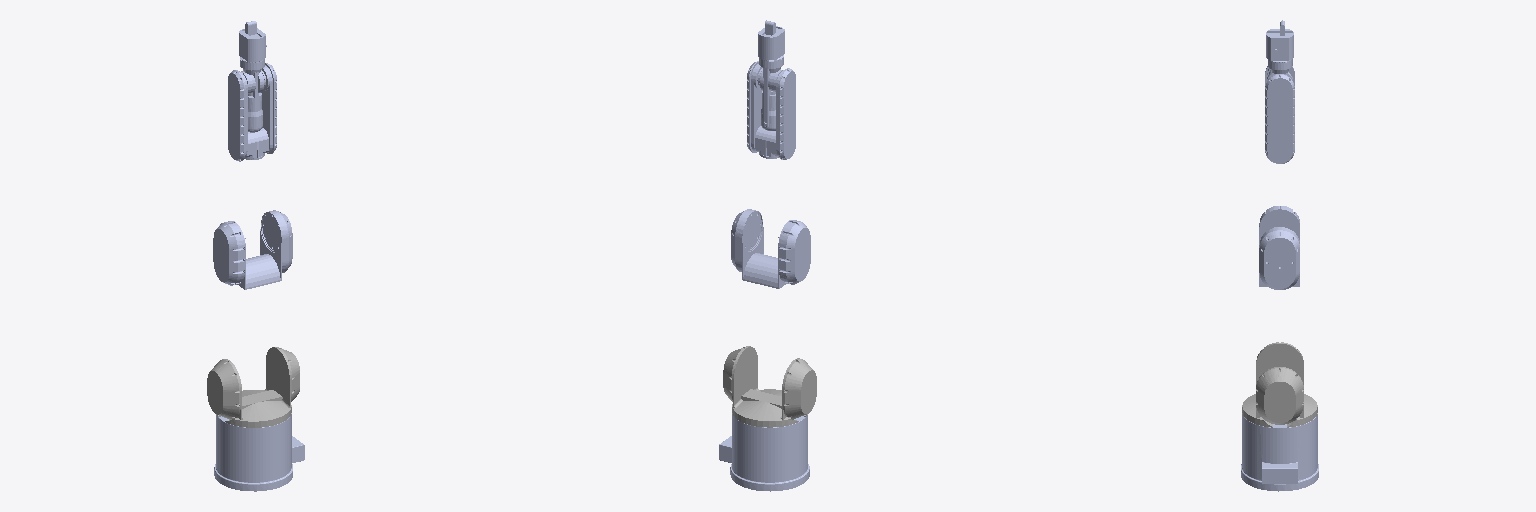
robot.urdf — pa10:
<robot
  name="pa10">
    <link
    name="link1">
    <inertial>
      <origin
        xyz="0 0 0"
        rpy="0 0 0" />
      <mass
        value="7.94934697220915" />
      <inertia
        ixx="0.0510642767434423"
        ixy="-0.000891049100773253"
        ixz="3.65730202857334E-12"
        iyy="0.0504677521912288"
        iyz="1.39738812812236E-10"
        izz="0.0536200422710813" />
    </inertial>
    <visual>
      <origin
        xyz="0 0 0"
        rpy="0 0 0" />
      <geometry>
        <mesh
          filename="package://pa10_description/meshes/link1.STL" />
      </geometry>
      <material
        name="cyan">
        <color
          rgba="0.796078431372549 0.823529411764706 0.937254901960784 1" />
      </material>
    </visual>
    <collision>
      <origin
        xyz="0 0 0"
        rpy="0 0 0" />
      <geometry>
        <mesh
          filename="package://pa10_description/meshes/link1.STL" />
      </geometry>
    </collision>
  </link>
  
  <link
    name="link2">
    <inertial>
      <origin
        xyz="-0.0617285640357165 -4.46977211302629E-07 -2.02885402304353E-08"
        rpy="0 0 0" />
      <mass
        value="2.71192568839201" />
      <inertia
        ixx="0.0243201044735161"
        ixy="2.57044757772359E-07"
        ixz="-3.2309369661469E-06"
        iyy="0.0264027108199814"
        iyz="1.37537607062047E-07"
        izz="0.0115437749210812" />
    </inertial>
    <visual>
      <origin
        xyz="0 0 0"
        rpy="0 0 0" />
      <geometry>
        <mesh
          filename="package://pa10_description/meshes/link2.STL" />
      </geometry>
      <material
        name="">
        <color
          rgba="0.752941176470588 0.752941176470588 0.752941176470588 1" />
      </material>
    </visual>
    <collision>
      <origin
        xyz="0 0 0"
        rpy="0 0 0" />
      <geometry>
        <mesh
          filename="package://pa10_description/meshes/link2.STL" />
      </geometry>
    </collision>
  </link>
  

  
  <joint
    name="joint1"
    type="revolute">
    <limit upper="3.08823" lower="-3.08823" velocity="10" effort="10000"/>
    <origin
      xyz="-0.0018811 0 0.10209"
      rpy="0 1.5708 0" />
    <parent
      link="link1" />
    <child
      link="link2" />
    <axis
      xyz="1 0 0" />
  </joint>
  
  
  <link
    name="link3">
    <inertial>
      <origin
        xyz="-0.094181274379144 -4.63765533788296E-06 0.00129755326031771"
        rpy="0 0 0" />
      <mass
        value="4.68012900111117" />
      <inertia
        ixx="0.011384781756112"
        ixy="-5.17494991257085E-07"
        ixz="-1.63266437372498E-06"
        iyy="0.0663254092196658"
        iyz="5.70854111984348E-08"
        izz="0.0640549775205778" />
	</inertial>
    <visual>
      <origin
        xyz="0 0 0"
        rpy="0 0 0" />
      <geometry>
        <mesh
          filename="package://pa10_description/meshes/link3.STL" />
      </geometry>
      <material
        name="cyan">
        <color
          rgba="0.796078431372549 0.823529411764706 0.937254901960784 1" />
      </material>
    </visual>
    <collision>
      <origin
        xyz="0 0 0"
        rpy="0 0 0" />
      <geometry>
        <mesh
          filename="package://pa10_description/meshes/link3.STL" />
      </geometry>
    </collision>
  </link>
  
  
  <joint
    name="joint2"
    type="revolute">
    <limit upper="1.58725" lower="-1.58725" velocity="10" effort="10000"/>
    <origin
      xyz="-0.1135 0 0"
      rpy="3.1416 3.0531E-16 0" />
    <parent
      link="link2" />
    <child
      link="link3" />
    <axis
      xyz="0 0 -1" />
  </joint>
  
  
  <link
    name="link4">
    <inertial>
      <origin
        xyz="-0.078996 -0.14816 -0.025657"
        rpy="0 0 0" />
     <mass
        value="2.3539959451965" />
       <inertia
        ixx="0.015058"
        ixy="0.0015469"
        ixz="-0.00070667"
        iyy="0.018286"
        iyz="-1.8788E-05"
        izz="0.0088182" />
    </inertial>
    <visual>
      <origin
        xyz="0 0 0"
        rpy="0 0 0" />
      <geometry>
        <mesh
          filename="package://pa10_description/meshes/link4.STL" />
      </geometry>
      <material
        name="">
        <color
          rgba="0.796078431372549 0.823529411764706 0.937254901960784 1" />
      </material>
    </visual>
    <collision>
      <origin
        xyz="0 0 0"
        rpy="0 0 0" />
      <geometry>
        <mesh
          filename="package://pa10_description/meshes/link4.STL" />
      </geometry>
    </collision>
  </link>

  
  <joint
    name="joint3"
    type="revolute">
    <limit upper="3.03587" lower="-3.03587" velocity="10" effort="10000"/>
    <origin
      xyz="-0.2825 0 0.0029999"
      rpy="0 1.2062E-07 6.5638E-07" />
    <parent
      link="link3" />
    <child
      link="link4" />
    <axis
      xyz="1 0 0" />
  </joint>
  
  
  <link
    name="link5">
    <inertial>
      <origin
        xyz="-0.0847859918312063 -1.41827960625784E-05 -0.0002042047160195"
        rpy="0 0 0" />
      <mass
        value="2.05851442359338" />
      <inertia
        ixx="0.00292511622390553"
        ixy="1.41784162912146E-06"
        ixz="0.00060867951854864"
        iyy="0.020909916742985"
        iyz="1.12871901963483E-06"
        izz="0.0201272225685895" />
    </inertial>
    <visual>
      <origin
        xyz="0 0 0"
        rpy="0 0 0" />
      <geometry>
        <mesh
          filename="package://pa10_description/meshes/link5.STL" />
      </geometry>
      <material
        name="">
        <color
          rgba="0.796078431372549 0.823529411764706 0.937254901960784 1" />
      </material>
    </visual>
    <collision>
      <origin
        xyz="0 0 0"
        rpy="0 0 0" />
      <geometry>
        <mesh
          filename="package://pa10_description/meshes/link5.STL" />
      </geometry>
    </collision>
  </link>
  
  
  <joint
    name="joint4"
    type="revolute">
    <limit upper="2.3901" lower="-2.3901" velocity="10" effort="10000"/>
    <origin
      xyz="-0.16801 -1.7923E-05 0"
      rpy="-3.1416 -1.1102E-16 0" />
    <parent
      link="link4" />
    <child
      link="link5" />
    <axis
      xyz="0 0 1" />
  </joint>
  
  
  <link
    name="link6">
    <inertial>
      <origin
        xyz="-0.00805272105966082 0.000110235624640742 0.00069149937940316"
        rpy="0 0 0" />
      <mass
        value="1.37119764561499" />
      <inertia
        ixx="0.00333020297641962"
        ixy="-7.8633755251471E-07"
        ixz="-0.000117294966007319"
        iyy="0.0117528447479912"
        iyz="5.34812034426197E-09"
        izz="0.00961712575206474" />
    </inertial>
    <visual>
      <origin
        xyz="0 0 0"
        rpy="0 0 0" />
      <geometry>
        <mesh
          filename="package://pa10_description/meshes/link6.STL" />
      </geometry>
      <material
        name="">
        <color
          rgba="0.796078431372549 0.823529411764706 0.937254901960784 1" />
      </material>
    </visual>
    <collision>
      <origin
        xyz="0 0 0"
        rpy="0 0 0" />
      <geometry>
        <mesh
          filename="package://pa10_description/meshes/link6.STL" />
      </geometry>
    </collision>
  </link>

   
  <joint
    name="joint5"
    type="revolute">
    <limit upper="4.44059" lower="-4.44059" velocity="10" effort="10000"/>
    <origin
      xyz="-0.36824 0 -0.0020003"
      rpy="0 2.1649E-15 9.992E-16" />
    <parent
      link="link5" />
    <child
      link="link6" />
    <axis
      xyz="1 0 0" />
  </joint>
  
  
  <link
    name="link7">
    <inertial>
      <origin
        xyz="0.0312759039478299 0.00123419126834035 0.00086359769683747"
        rpy="0 0 0" />
      <mass
        value="0.749475964810386" />
      <inertia
        ixx="0.000413239571105982"
        ixy="-2.89936057339336E-05"
        ixz="4.19297763029297E-06"
        iyy="0.00379347775132525"
        iyz="-5.2418695993306E-07"
        izz="0.00378820414120642" />
    </inertial>
    <visual>
      <origin
        xyz="0 0 0"
        rpy="0 0 0" />
      <geometry>
        <mesh
          filename="package://pa10_description/meshes/link7.STL" />
      </geometry>
      <material
        name="">
        <color
          rgba="0.796078431372549 0.823529411764706 0.937254901960784 1" />
      </material>
    </visual>
    <collision>
      <origin
        xyz="0 0 0"
        rpy="0 0 0" />
      <geometry>
        <mesh
          filename="package://pa10_description/meshes/link7.STL" />
      </geometry>
    </collision>
  </link>
  
  
  <joint
    name="joint6"
    type="revolute">
    <limit upper="2.87979" lower="-2.87979" velocity="10" effort="10000"/>
    <origin
      xyz="-0.13176 0.00011584 0"
      rpy="-1.5708 -2.387E-15 0" />
    <parent
      link="link6" />
    <child
      link="link7" />
    <axis
      xyz="0 1 0" />
  </joint>

  

  
  <link name="link8"/>
  
    <joint
    name="joint7"
    type="continuous">
    <origin
      xyz="-0.0789 0 0"
      rpy="0 0 3.14159265358979" />
    <parent
      link="link7" />
    <child
      link="link8" />
    <axis
      xyz="1 0 0" />
  </joint>
  
  <joint
    name="joint8"
    type="fixed">
    <origin
      xyz="0 0 0"
      rpy="0 0 0" />
    <parent
      link="link8" />
    <child
      link="gripper" />
    <axis
      xyz="0 0 0" />
  </joint>
  
    <transmission name="tran1">
    <type>transmission_interface/SimpleTransmission</type>
    <joint name="joint1">
      <hardwareInterface>EffortJointInterface</hardwareInterface>
    </joint>
    <actuator name="motor1">
      <hardwareInterface>EffortJointInterface</hardwareInterface>
      <mechanicalReduction>1</mechanicalReduction>
    </actuator>
  </transmission>
  
    <transmission name="tran2">
    <type>transmission_interface/SimpleTransmission</type>
    <joint name="joint2">
      <hardwareInterface>EffortJointInterface</hardwareInterface>
    </joint>
    <actuator name="motor2">
      <hardwareInterface>EffortJointInterface</hardwareInterface>
      <mechanicalReduction>1</mechanicalReduction>
    </actuator>
  </transmission>
  
    <transmission name="tran3">
    <type>transmission_interface/SimpleTransmission</type>
    <joint name="joint3">
      <hardwareInterface>EffortJointInterface</hardwareInterface>
    </joint>
    <actuator name="motor3">
      <hardwareInterface>EffortJointInterface</hardwareInterface>
      <mechanicalReduction>1</mechanicalReduction>
    </actuator>
  </transmission>
  
    <transmission name="tran4">
    <type>transmission_interface/SimpleTransmission</type>
    <joint name="joint4">
      <hardwareInterface>EffortJointInterface</hardwareInterface>
    </joint>
    <actuator name="motor4">
      <hardwareInterface>EffortJointInterface</hardwareInterface>
      <mechanicalReduction>1</mechanicalReduction>
    </actuator>
  </transmission>
  
  <transmission name="tran5">
    <type>transmission_interface/SimpleTransmission</type>
    <joint name="joint5">
      <hardwareInterface>EffortJointInterface</hardwareInterface>
    </joint>
    <actuator name="motor5">
      <hardwareInterface>EffortJointInterface</hardwareInterface>
      <mechanicalReduction>1</mechanicalReduction>
    </actuator>
  </transmission>
  
  <transmission name="tran6">
    <type>transmission_interface/SimpleTransmission</type>
    <joint name="joint6">
      <hardwareInterface>EffortJointInterface</hardwareInterface>
    </joint>
    <actuator name="motor6">
      <hardwareInterface>EffortJointInterface</hardwareInterface>
      <mechanicalReduction>1</mechanicalReduction>
    </actuator>
  </transmission>
  
    <transmission name="tran7">
    <type>transmission_interface/SimpleTransmission</type>
    <joint name="joint7">
      <hardwareInterface>EffortJointInterface</hardwareInterface>
    </joint>
    <actuator name="motor7">
      <hardwareInterface>EffortJointInterface</hardwareInterface>
      <mechanicalReduction>1</mechanicalReduction>
    </actuator>
  </transmission>
  

  
  
  
  


    
    <!--To fixe the bqse of the robot-->
  <joint name="fixed" type="fixed">
    <parent link="world"/>
    <child link="link1"/>
  </joint>
  
  
  
    <link 
    name="gripper"> 
    <inertial> 
      <origin 
        xyz="0 7.27408835842214E-05 -2.77311286391718E-05" 
        rpy="0 0 0" /> 
      <mass 
        value="0.318111544829444" /> 
      <inertia 
        ixx="0.000238894475405689" 
        ixy="-9.95010231447356E-08" 
        ixz="3.79329413750036E-08" 
        iyy="0.000276504500502102" 
        iyz="-3.00174602631607E-07" 
        izz="0.000227584548635218" /> 
    </inertial> 
    <visual> 
      <origin 
        xyz="0 0 0" 
        rpy="0 0 0" /> 
      <geometry> 
        <mesh 
          filename="package://pa10_description/meshes/gripper_f.STL" /> 
      </geometry> 
      <material 
        name=""> 
        <color 
          rgba="0.796078431372549 0.823529411764706 0.937254901960784 1" /> 
      </material> 
    </visual> 
    <collision> 
      <origin 
        xyz="0 0 0" 
        rpy="0 0 0" /> 
      <geometry> 
        <mesh 
          filename="package://pa10_description/meshes/gripper_f.STL" /> 
      </geometry> 
    </collision> 
  </link>
  
  <gazebo reference = "gripper">
    <sensor name='contact_gripper' type='contact'>
	<plugin name="plugin_contact_gripper" filename="libcontact.so"/>
	<contact>
		<collision>gripper_collision</collision>
	</contact>
  </sensor>
</gazebo>
  
  
  
  
   <link 
    name="right_finger"> 
    <inertial> 
      <origin 
        xyz="-0.0149999999999998 0.00189510880456001 0.0191263593375393" 
        rpy="0 0 0" /> 
      <mass 
        value="0.0168898172009748" /> 
      <inertia 
        ixx="3.30140945222581E-06" 
        ixy="6.88214269644119E-22" 
        ixz="1.69538938348869E-20" 
        iyy="2.38014886911173E-06" 
        iyz="-3.12343399300023E-21" 
        izz="1.52846665341064E-06" /> 
    </inertial> 
    <visual> 
      <origin 
        xyz="0 0 0" 
        rpy="0 0 0" /> 
      <geometry> 
        <mesh 
          filename="package://pa10_description/meshes/right_finger.STL" /> 
      </geometry> 
      <material 
        name=""> 
        <color 
          rgba="0.792156862745098 0.819607843137255 0.933333333333333 1" /> 
      </material> 
    </visual> 
    <collision> 
      <origin 
        xyz="0 0 0" 
        rpy="0 0 0" /> 
      <geometry> 
        <mesh 
          filename="package://pa10_description/meshes/right_finger.STL" /> 
      </geometry> 
    </collision> 
  </link> 
<gazebo reference="right_finger">
  <kp>1000000.0</kp>
  <kd>100.0</kd>
  <mu1>100.0</mu1>
  <mu2>100.0</mu2>
  <minDepth>0.001</minDepth>
  
  <sensor name='contact_finger_right' type='contact'>
	<plugin name="plugin_contact_finger_right" filename="libcontact.so"/>
	<contact>
		<collision>right_finger_collision</collision>
	</contact>
  </sensor>
</gazebo>
    
    <joint
    name="right_prism"
    type="prismatic">
  <origin 
      xyz="0.0679999999999998 -0.00213430422499739 -0.00750000000000002" 
      rpy="0.245285411583501 1.57079630572147 0.249893760632784" />
    <parent
      link="gripper" />
    <child
      link="right_finger" />
    <axis
      xyz="1 0 0" />
    <limit
      effort="100"
      velocity="0"
      upper="0.015"
      lower="-0.015"/>
    <dynamics friction="100.0"/>
  </joint>

  
 <gazebo reference="right_prism">
    <implicitSpringDamper>1</implicitSpringDamper>
    <provideFeedback>true</provideFeedback>
</gazebo>
  
  
  <link 
    name="left_finger"> 
    <inertial> 
      <origin 
        xyz="-0.0149999999999998 0.0018951088045599 0.0191263593375393" 
        rpy="0 0 0" /> 
      <mass 
        value="0.0168898172009748" /> 
      <inertia 
        ixx="3.30140945222581E-06" 
        ixy="9.23133563609179E-22" 
        ixz="1.68083100470775E-20" 
        iyy="2.38014886911173E-06" 
        iyz="-3.12343399300023E-21" 
        izz="1.52846665341064E-06" /> 
    </inertial> 
    <visual> 
      <origin 
        xyz="0 0 0" 
        rpy="0 0 0" /> 
      <geometry> 
        <mesh 
          filename="package://pa10_description/meshes/left_finger.STL" /> 
      </geometry> 
      <material 
        name=""> 
        <color 
          rgba="0.792156862745098 0.819607843137255 0.933333333333333 1" /> 
      </material> 
    </visual> 
    <collision> 
      <origin 
        xyz="0 0 0" 
        rpy="0 0 0" /> 
      <geometry> 
        <mesh 
          filename="package://pa10_description/meshes/left_finger.STL" /> 
      </geometry> 
    </collision>
        
  
  </link>
  
<gazebo reference="left_finger">
  <kp>1000000.0</kp>
  <kd>100.0</kd>
  <mu1>100.0</mu1>
  <mu2>100.0</mu2>
  <minDepth>0.001</minDepth>
    <sensor name='contact_finger_left' type='contact'>
	<plugin name="plugin_contact_finger_left" filename="libcontact.so"/>
	<contact>
		<collision>left_finger_collision</collision>
	</contact>
  </sensor>
</gazebo>
  
  
  <joint
    name="left_prism"
    type="prismatic">     
    <origin 
      xyz="0.0680000000000001 -0.00213430422499861 -0.0224999999999999" 
      rpy="0.245285411583501 1.57079630572147 0.249893760632784" /> 
    <parent
      link="gripper" />
    <child
      link="left_finger" />
    <axis
      xyz="1 0 0" />
    <limit
      effort="100"
      velocity="0"
      upper="0.015"
      lower="-0.015" />
    <dynamics friction="100.0"/>
  </joint>

<!--<gazebo reference="left_prism">
    <implicitSpringDamper>1</implicitSpringDamper>
    <provideFeedback>true</provideFeedback>
      <sensor name="my_force_sensor" type="force_torque">
	  
	  <force_torque>
		<frame>parent</frame>
	</force_torque>
	<update_rate>200</update_rate>
  </sensor>
</gazebo>

<gazebo reference = "left_prism">
	<plugin name="gazebo_ros_control" filename="libgazebo_ros_ft_sensor.so">
		<updateRate>100.0</updateRate>	
		<topicName>ft_sensor_topic</topicName>
		<jointName>left_prism</jointName>
	</plugin>
</gazebo>-->
  
<transmission name="tran8">
    <type>transmission_interface/SimpleTransmission</type>
    <joint name="right_prism">
      <hardwareInterface>EffortJointInterface</hardwareInterface>
    </joint>
    <actuator name="motor8">
      <hardwareInterface>EffortJointInterface</hardwareInterface>
      <mechanicalReduction>1</mechanicalReduction>
    </actuator>
  </transmission>
  
<transmission name="tran9">
    <type>transmission_interface/SimpleTransmission</type>
    <joint name="left_prism">
      <hardwareInterface>EffortJointInterface</hardwareInterface>
    </joint>
    <actuator name="motor9">
      <hardwareInterface>EffortJointInterface</hardwareInterface>
      <mechanicalReduction>1</mechanicalReduction>
    </actuator>
  </transmission>
  
  
<!--Ros gazebo_ros_control is used to control the robot from ros in gazebo    -->
    <gazebo>
    <plugin name="gazebo_ros_control" filename="libgazebo_ros_control.so">
      <robotNamespace>/pa10</robotNamespace>
<!--       <robotSimType>gazebo_ros_control/DefaultRobotHWSim</robotSimType> -->
    </plugin>    
   
  </gazebo>
<!--  <gazebo>
    <static>true</static>
  </gazebo>-->
  <selfcollide>1</selfcollide>

    <link name="world"/>

<gazebo reference = "link1">  
    <material>Gazebo/Grey</material>
</gazebo>

<gazebo reference = "link3">  
    <material>Gazebo/Grey</material>
</gazebo>


<gazebo reference = "link5">  
    <material>Gazebo/Grey</material>
</gazebo>


<gazebo reference = "link7">  
    <material>Gazebo/Grey</material>
</gazebo>

<gazebo reference = "link6">
	<material>Gazebo/Turquoise</material>
</gazebo>
<gazebo reference = "link2">
	<material>Gazebo/Turquoise</material>
</gazebo>
    
  <gazebo reference = "link4">
	<material>Gazebo/Turquoise</material>
</gazebo>
    
<gazebo>
   <plugin name="gazebo_grasp_fix" filename="libgazebo_grasp_fix.so">
        <arm>
           <arm_name>pa10</arm_name>
           <palm_link> link8 </palm_link>
           <gripper_link> left_finger </gripper_link>
           <gripper_link> right_finger </gripper_link>
        </arm>
       <forces_angle_tolerance>100</forces_angle_tolerance>
       <update_rate>4</update_rate>
       <grip_count_threshold>4</grip_count_threshold>
       <max_grip_count>8</max_grip_count>
       <release_tolerance>0.005</release_tolerance>
       <disable_collisions_on_attach>false</disable_collisions_on_attach>
       <contact_topic>__default_topic__</contact_topic>
    </plugin>
</gazebo>

</robot>

--- Render facts (derived) ---
3 views of the same robot in one strip: view 1: azimuth 30°, elevation 25°; view 2: azimuth 150°, elevation 25°; view 3: azimuth 270°, elevation 25° (orthographic).
Robot: pa10 — 12 links, 11 joints (6 revolute, 1 continuous, 2 prismatic, 2 fixed); root link world; default pose: all joints at 0.
Links seen in each view (by area): view 1: link1, link2, link4, link6, link7, gripper; view 2: link1, link2, link4, link6, link7, gripper; view 3: link1, link2, link4, link6, gripper.
Link boxes in pixels (box(x1,y1,x2,y2)): link1: box(214, 413, 304, 491); link2: box(207, 347, 299, 427); link4: box(213, 210, 292, 289); link6: box(228, 63, 276, 161); link7: box(240, 57, 265, 132); gripper: box(239, 28, 266, 61); link1: box(719, 413, 809, 491); link2: box(723, 346, 816, 427); link4: box(731, 209, 810, 288); link6: box(747, 61, 795, 159); link7: box(757, 55, 783, 130); gripper: box(758, 26, 784, 59); link1: box(1241, 413, 1318, 491); link2: box(1242, 342, 1317, 427); link4: box(1259, 206, 1299, 289); link6: box(1265, 66, 1294, 163); gripper: box(1266, 29, 1293, 60).
Size in the robot's own frame: 0.27 by 0.23 by 1.45 metres.
Meshes: 10 distinct files referenced, 7 mesh visuals loaded (7 binary STL); not drawn: 3 (reference not matched to a file when rendering).